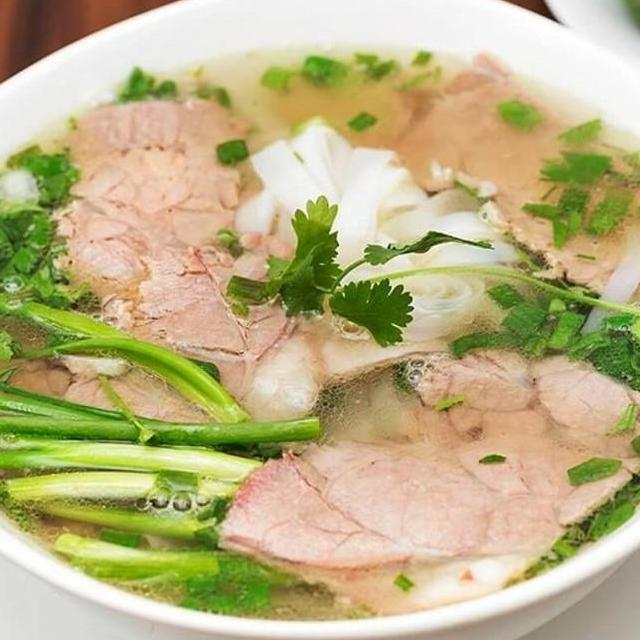banh pho: (228, 105, 520, 364)
pho bo: (0, 11, 640, 640)
thit bo: (209, 340, 640, 604), (47, 96, 328, 446), (396, 53, 640, 294)
